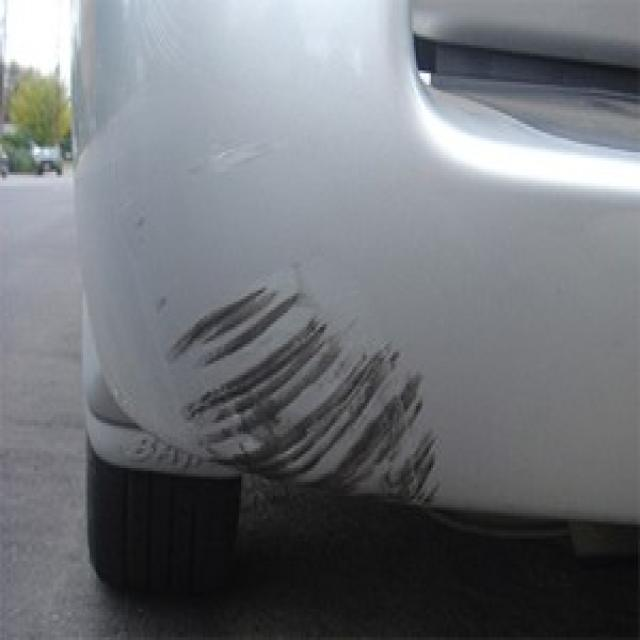Scratch: (160, 268, 448, 491)
